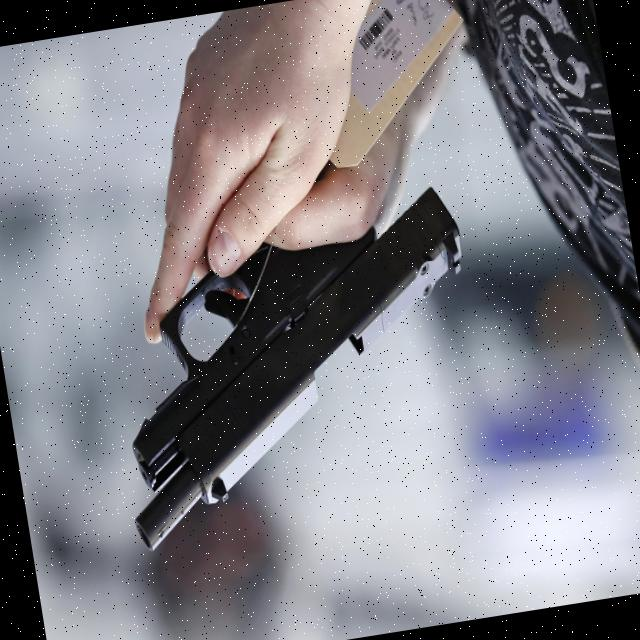Handgun: (54, 75, 510, 589)
